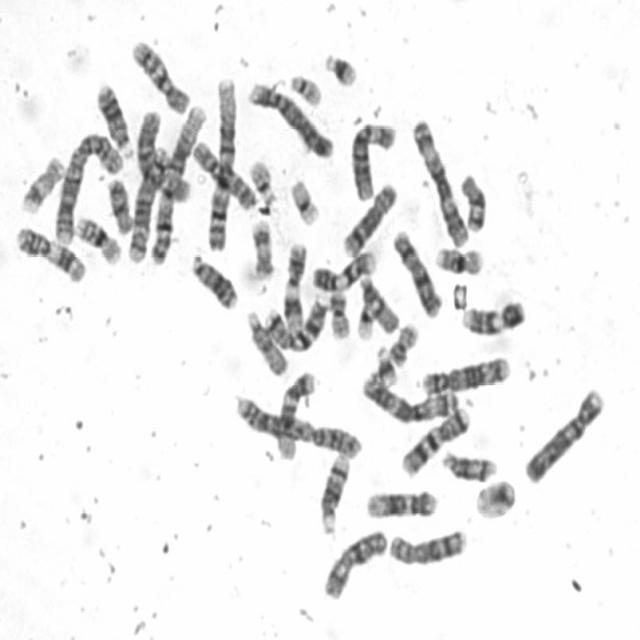A1: (147, 99, 208, 267), (204, 71, 240, 253)
A2: (231, 388, 364, 459), (50, 126, 126, 247)
A3: (408, 111, 471, 249), (357, 368, 461, 424)
B4: (520, 380, 608, 486), (243, 74, 336, 160)
B5: (123, 138, 171, 264), (418, 349, 512, 396)
C10: (127, 32, 192, 116), (189, 134, 259, 212)
C11: (9, 220, 88, 285), (278, 236, 309, 333)
C12: (272, 364, 320, 462), (362, 483, 439, 520)
C6: (132, 105, 193, 205), (346, 114, 399, 202)
C7: (397, 400, 473, 478), (260, 291, 330, 354)
C8: (338, 176, 400, 258), (384, 522, 469, 568)
C9: (309, 242, 380, 294), (457, 292, 528, 338)
D13: (91, 76, 136, 159), (187, 246, 240, 311)
D14: (315, 446, 352, 536), (438, 444, 500, 483)
D15: (242, 304, 290, 378), (355, 269, 402, 336)
E16: (71, 208, 124, 267), (431, 239, 485, 276)
E17: (17, 149, 66, 214), (247, 213, 276, 281)
E18: (457, 167, 489, 234), (103, 172, 135, 235)
F19: (286, 172, 322, 227), (353, 296, 377, 342)
F20: (384, 316, 420, 366), (325, 284, 353, 341)
G21: (320, 45, 360, 88), (370, 339, 400, 387)
G22: (246, 153, 279, 205), (285, 67, 325, 107)
X: (318, 522, 389, 602), (388, 224, 444, 318)
